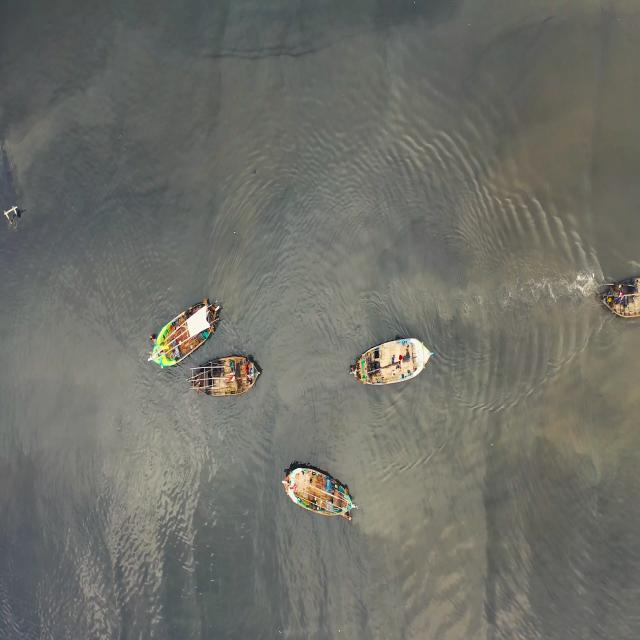ship: (147, 295, 219, 373), (282, 460, 355, 526), (347, 335, 435, 382), (188, 356, 271, 397), (600, 277, 638, 319)
